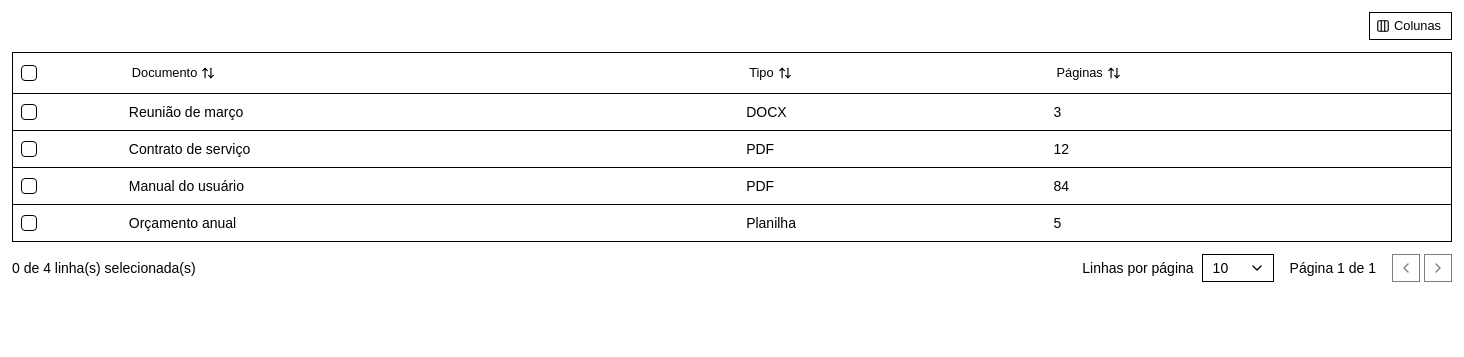
Scenario: DataTable, seleção e ação em lote › a barra só existe com linhas selecionadas e conta quantas
Click the checkbox named "Selecionar a linha" next to "Reunião de março" at (29, 112), box [21,104,37,120]
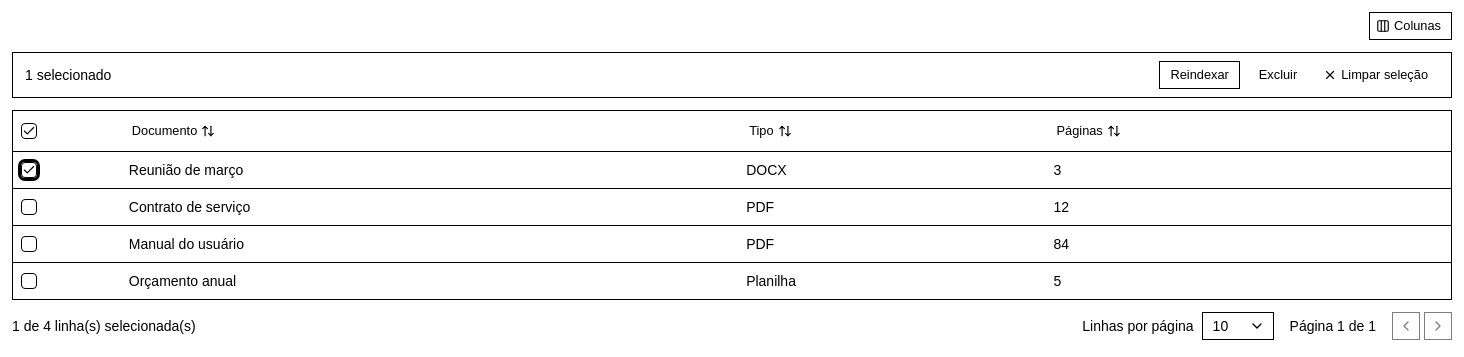
Click the checkbox named "Selecionar a linha" next to "Manual do usuário" at (29, 244), box [21,236,37,252]
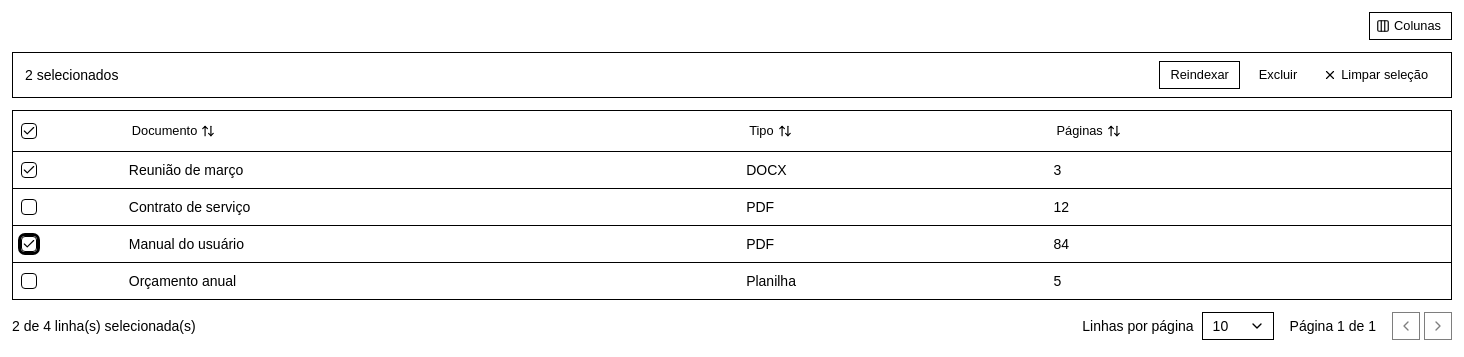
Expected: the text "2 selecionados" is shown, [25,65,118,85]
